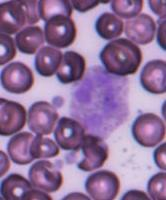N: (68, 68, 130, 138)
